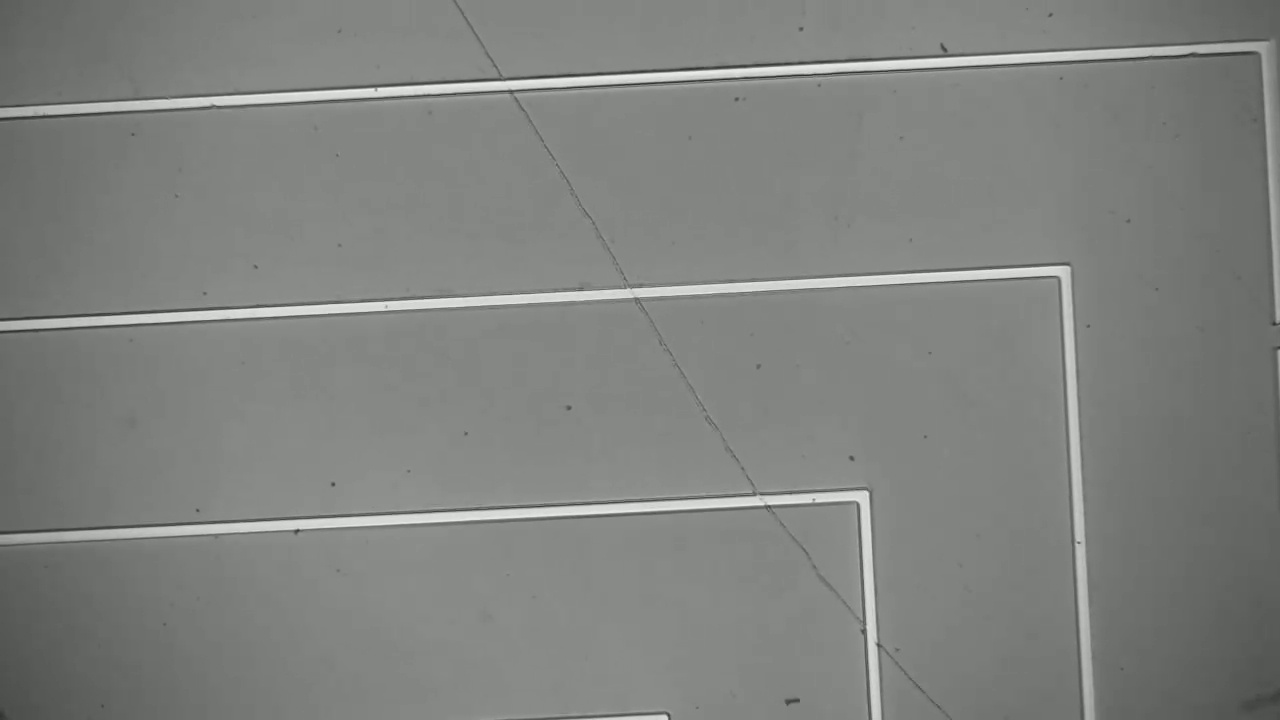open: (1262, 313, 1279, 362)
scratch: (443, 0, 955, 718)
